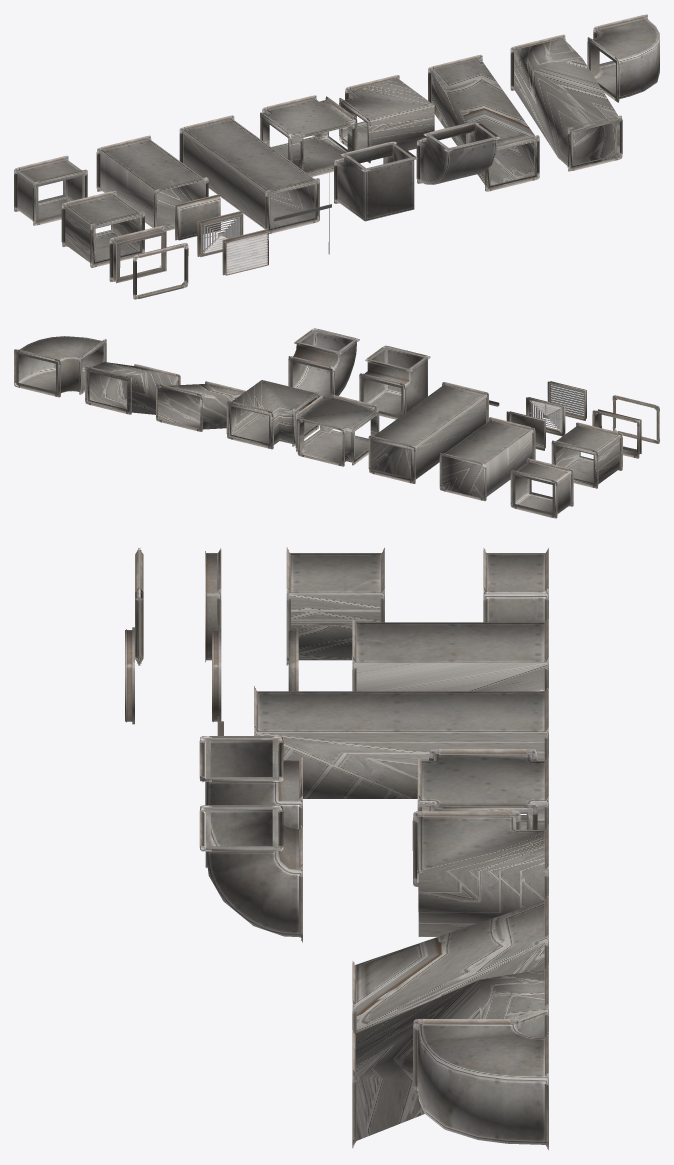
Rendered from modular_airduct_rectangular_01.glb.
The picture shows the model from 3 angles, top to bottom: view 1: azimuth 30°, elevation 25°; view 2: azimuth 150°, elevation 25°; view 3: azimuth 270°, elevation 25°; orthographic projection. The views are drawn at different scales.
Bounding box in the file's own units: 7.66 × 1.26 × 2.59.
2 materials, 2 textured.
